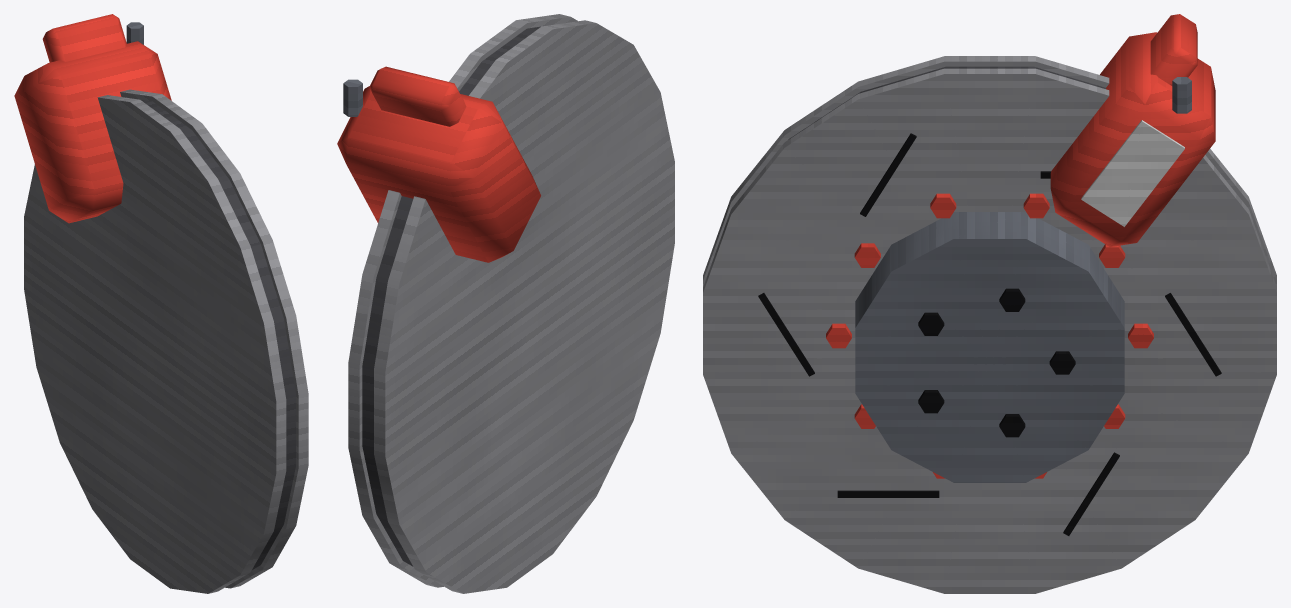
The model's file is discos_n4.glb.
The picture shows the model from 3 angles, left to right: view 1: azimuth 30°, elevation 25°; view 2: azimuth 150°, elevation 25°; view 3: azimuth 270°, elevation 25°; orthographic projection. The views are drawn at different scales.
Parts seen in each view (by area): view 1: discos_n4; view 2: discos_n4; view 3: discos_n4.
Boxes of the visible parts, x1,y1,x2,y2 form: discos_n4: (14,14,308,593); discos_n4: (337,14,674,593); discos_n4: (703,14,1276,593).
Bounding box in the file's own units: 0.105 × 0.375 × 0.3516.
Materials: 2 (2 with a texture image).
